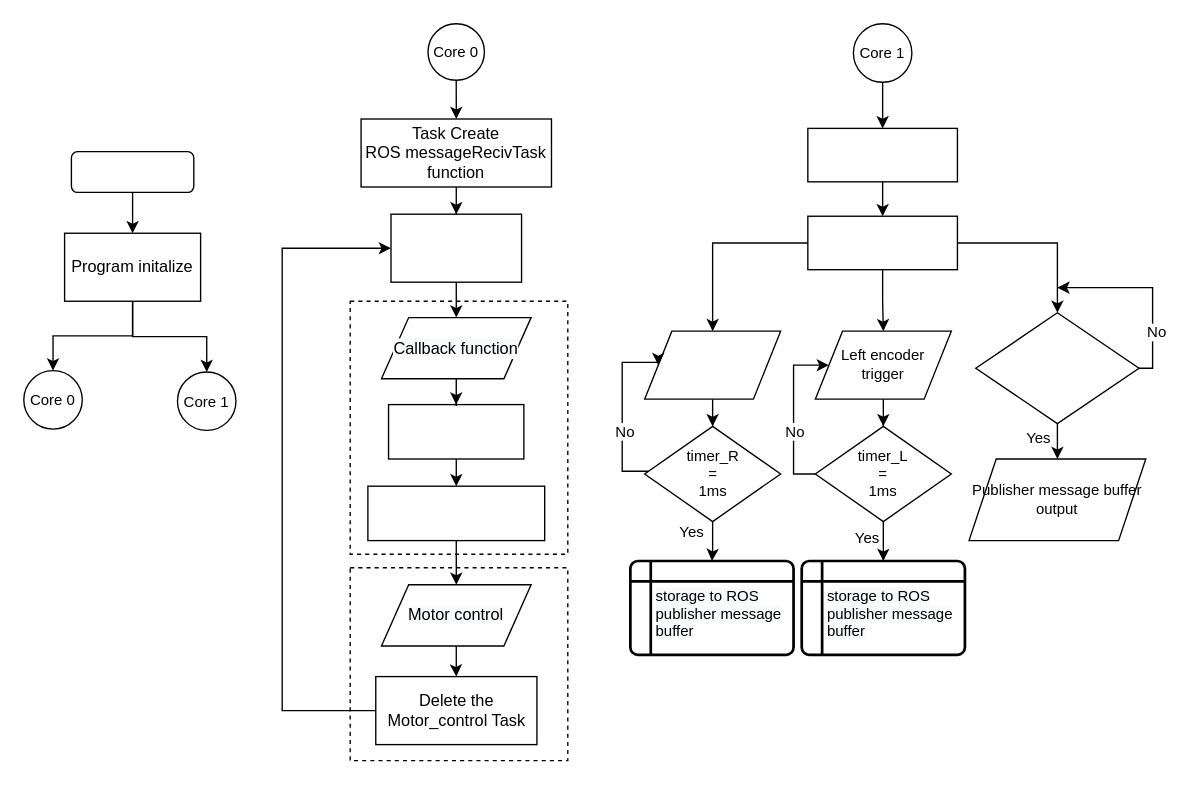
This 1189x785 diagram has some shape labels left out. Here are the shapes that lost their labels. From the top down, the box of each, then its label:
(70, 150, 194, 192): Start
(806, 127, 957, 182): Interrupt pin setting
(390, 213, 522, 282): ROS Topic subscribe (nh.spinOnce)
(806, 215, 957, 270): Timer setting 1ms
(643, 330, 781, 399): Right encoder trigger
(974, 311, 1139, 424): timer2publish = 1ms
(387, 403, 524, 459): PID parameter calculate
(367, 485, 545, 541): Task Create Motor_control function
